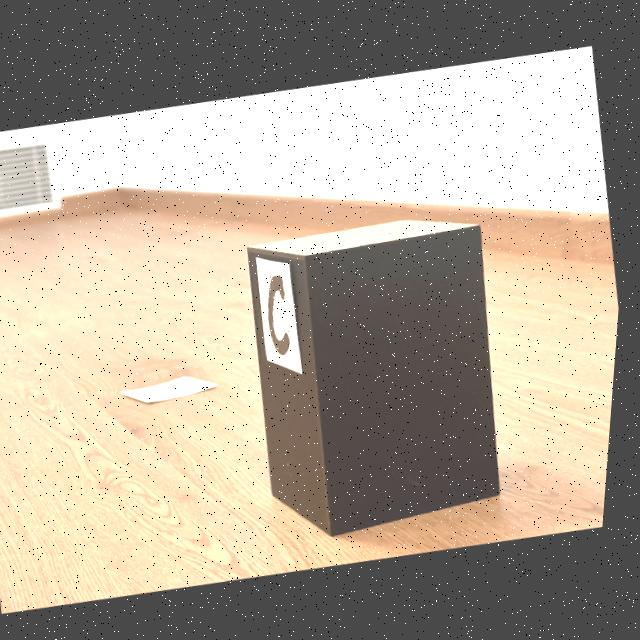C: (272, 273, 295, 352)
